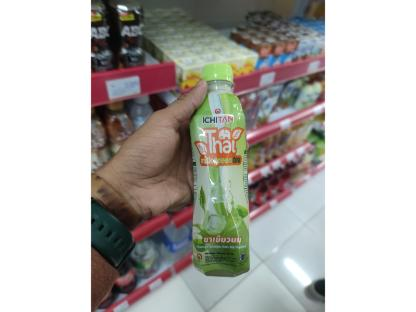Plastic Bottle: (166, 58, 276, 292)
